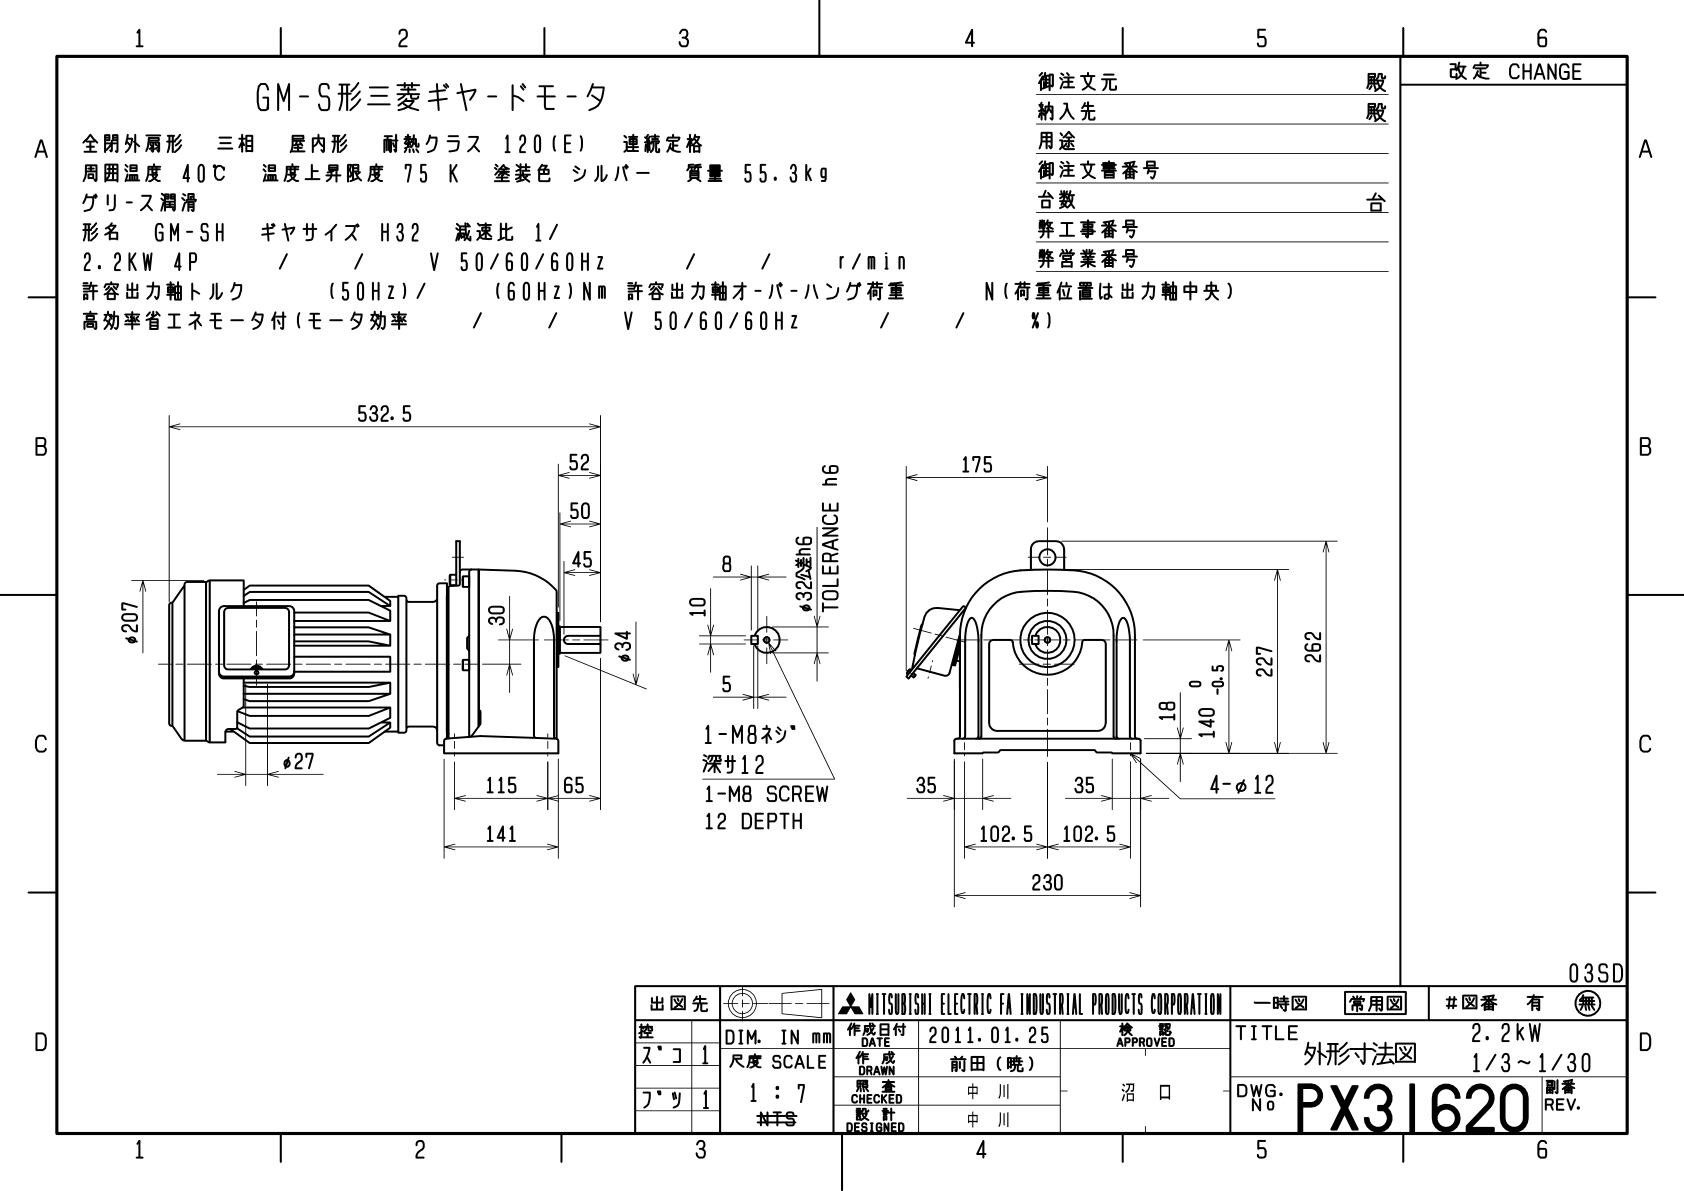GM_S_高効率屋内＿三相_脚: (6, 3, 1684, 1191)
